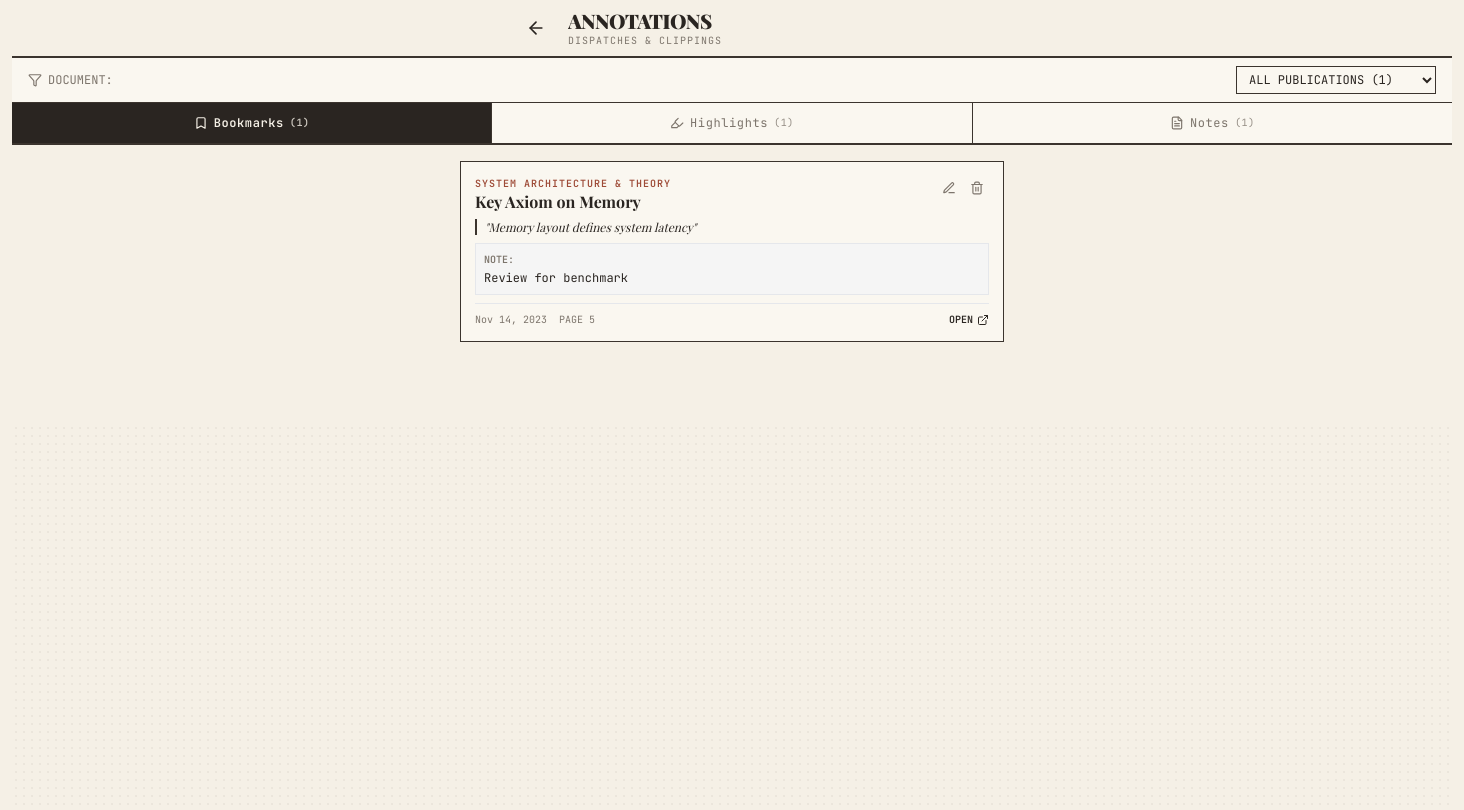
Test: AnnotationsScreen component › switches to highlights tab and displays highlights
Expected: the heading "Key Axiom on Memory" is shown, [475, 191, 641, 212]
Click Highlights tab
What coordinates should you click on to do the following:
click the button "Highlights (1)"
I would click on:
 (732, 123)
Its box is [492, 103, 973, 143].
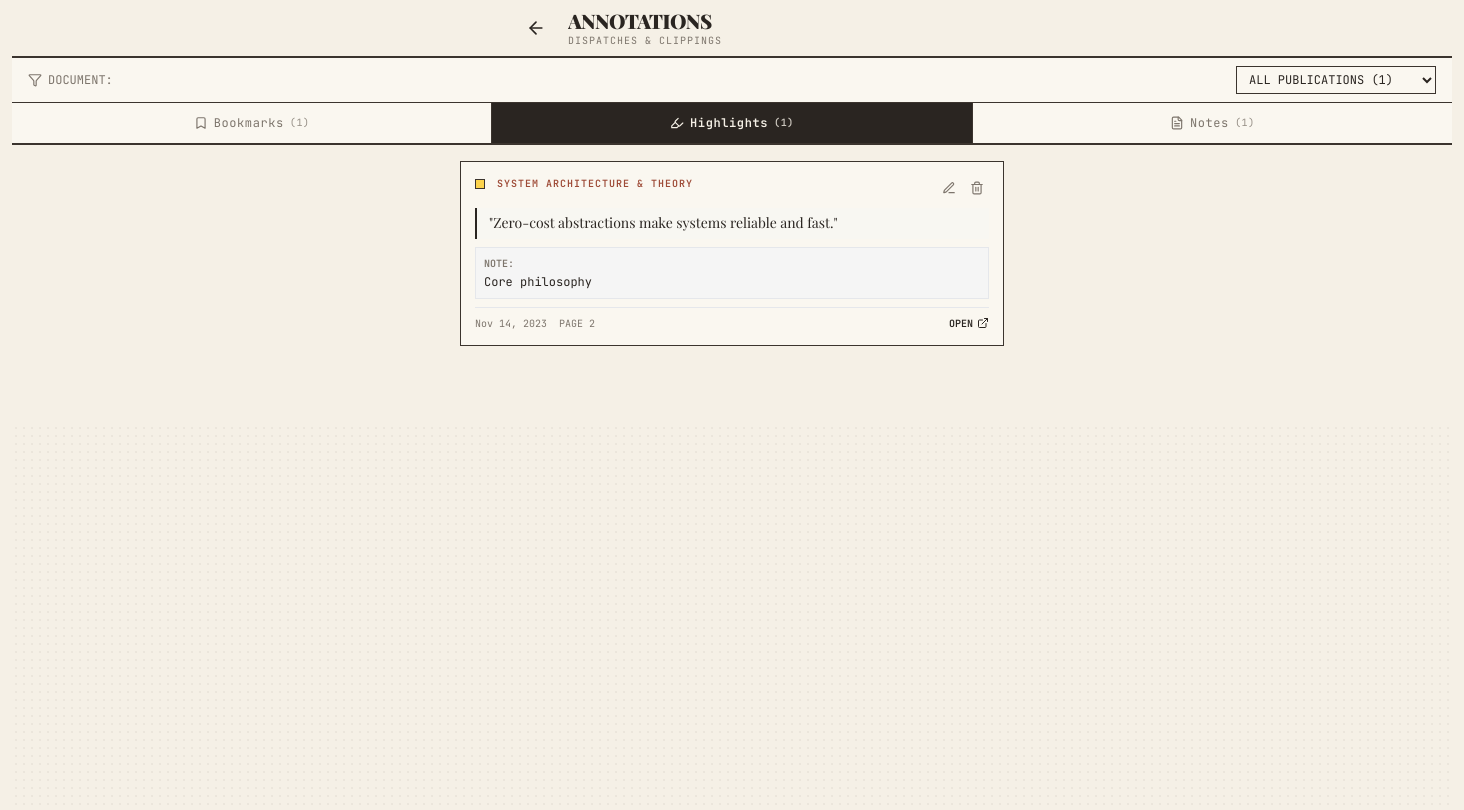
Now the text "\"Zero-cost abstractions make systems reliable and fast.\"" is shown, box [475, 208, 989, 239]
